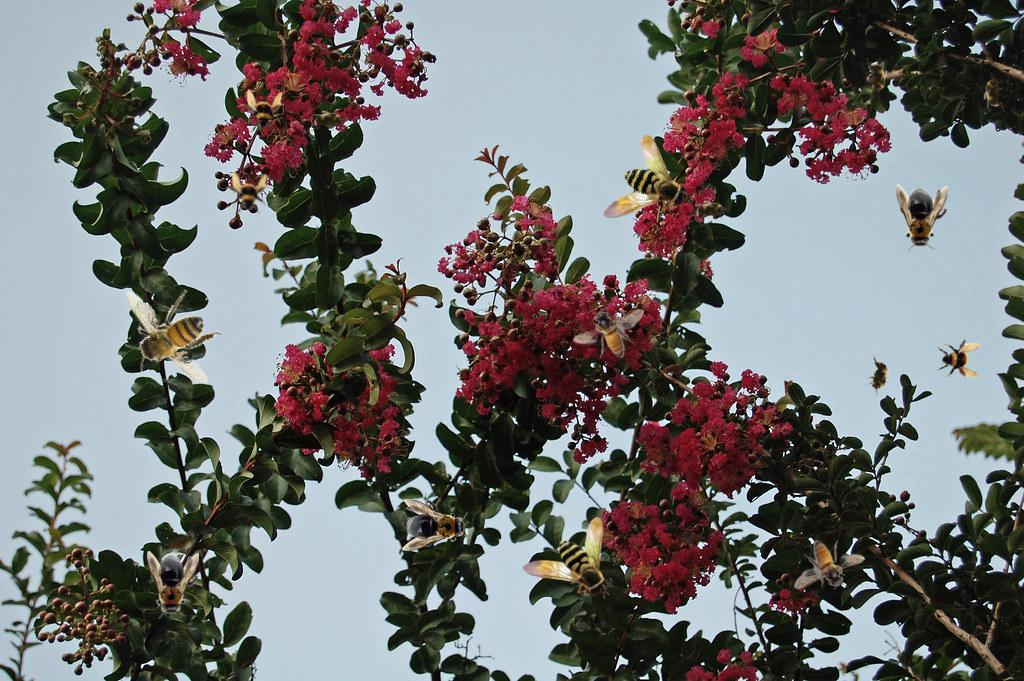Bee: (99, 268, 238, 398), (578, 128, 696, 244), (522, 517, 610, 599), (573, 308, 644, 358), (794, 540, 865, 590), (896, 184, 948, 252), (147, 551, 199, 619), (402, 499, 470, 551), (240, 89, 284, 133), (937, 336, 981, 380), (225, 171, 269, 215), (159, 523, 205, 561), (863, 353, 895, 399), (691, 200, 731, 222), (983, 72, 1005, 112), (309, 110, 349, 132), (866, 58, 888, 98)
